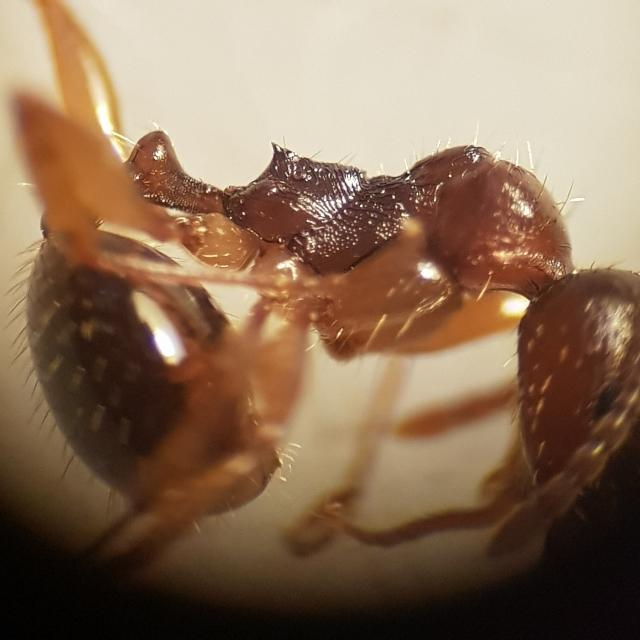Apheanogaster: (11, 64, 640, 574)
